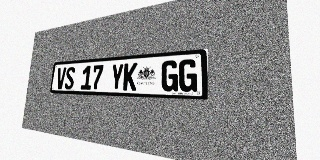1: (80, 66, 93, 90)
7: (91, 65, 104, 90)
G: (178, 59, 197, 92), (161, 60, 178, 92)
K: (123, 63, 138, 91)
S: (64, 67, 75, 89)
V: (56, 67, 66, 89)
Y: (110, 63, 124, 90)
